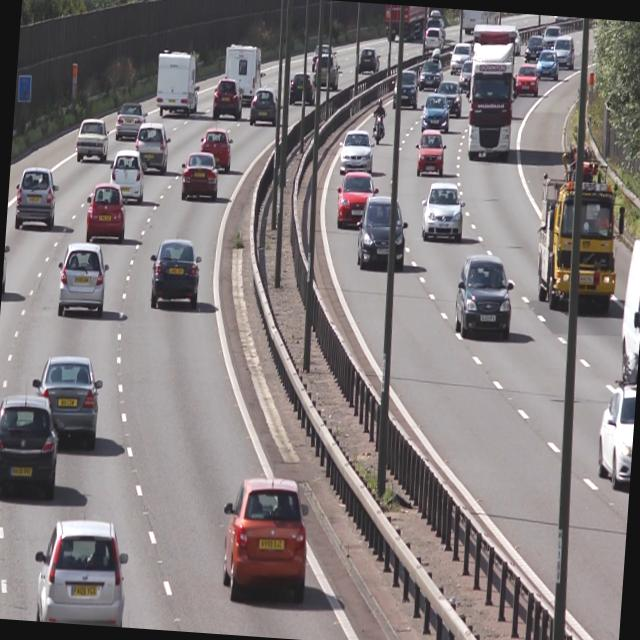Vehicle: (534, 142, 626, 320), (220, 476, 314, 605), (30, 515, 134, 627), (466, 22, 518, 162), (0, 392, 66, 498), (31, 354, 105, 444), (455, 255, 518, 341), (145, 236, 207, 308), (55, 240, 112, 318), (357, 193, 410, 273), (153, 44, 204, 122), (14, 165, 62, 232), (420, 180, 468, 246), (332, 168, 382, 230), (222, 41, 270, 104), (84, 182, 130, 246), (110, 149, 148, 207), (179, 148, 221, 200), (134, 123, 174, 175), (209, 72, 246, 126), (198, 124, 236, 174), (338, 130, 376, 178), (416, 129, 448, 180), (76, 118, 111, 163), (114, 99, 150, 142), (248, 86, 281, 128), (419, 91, 452, 131), (393, 66, 422, 110)
